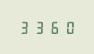six: (46, 20, 59, 34)
three: (18, 20, 31, 34), (32, 20, 45, 34)
zero: (60, 20, 73, 34)
